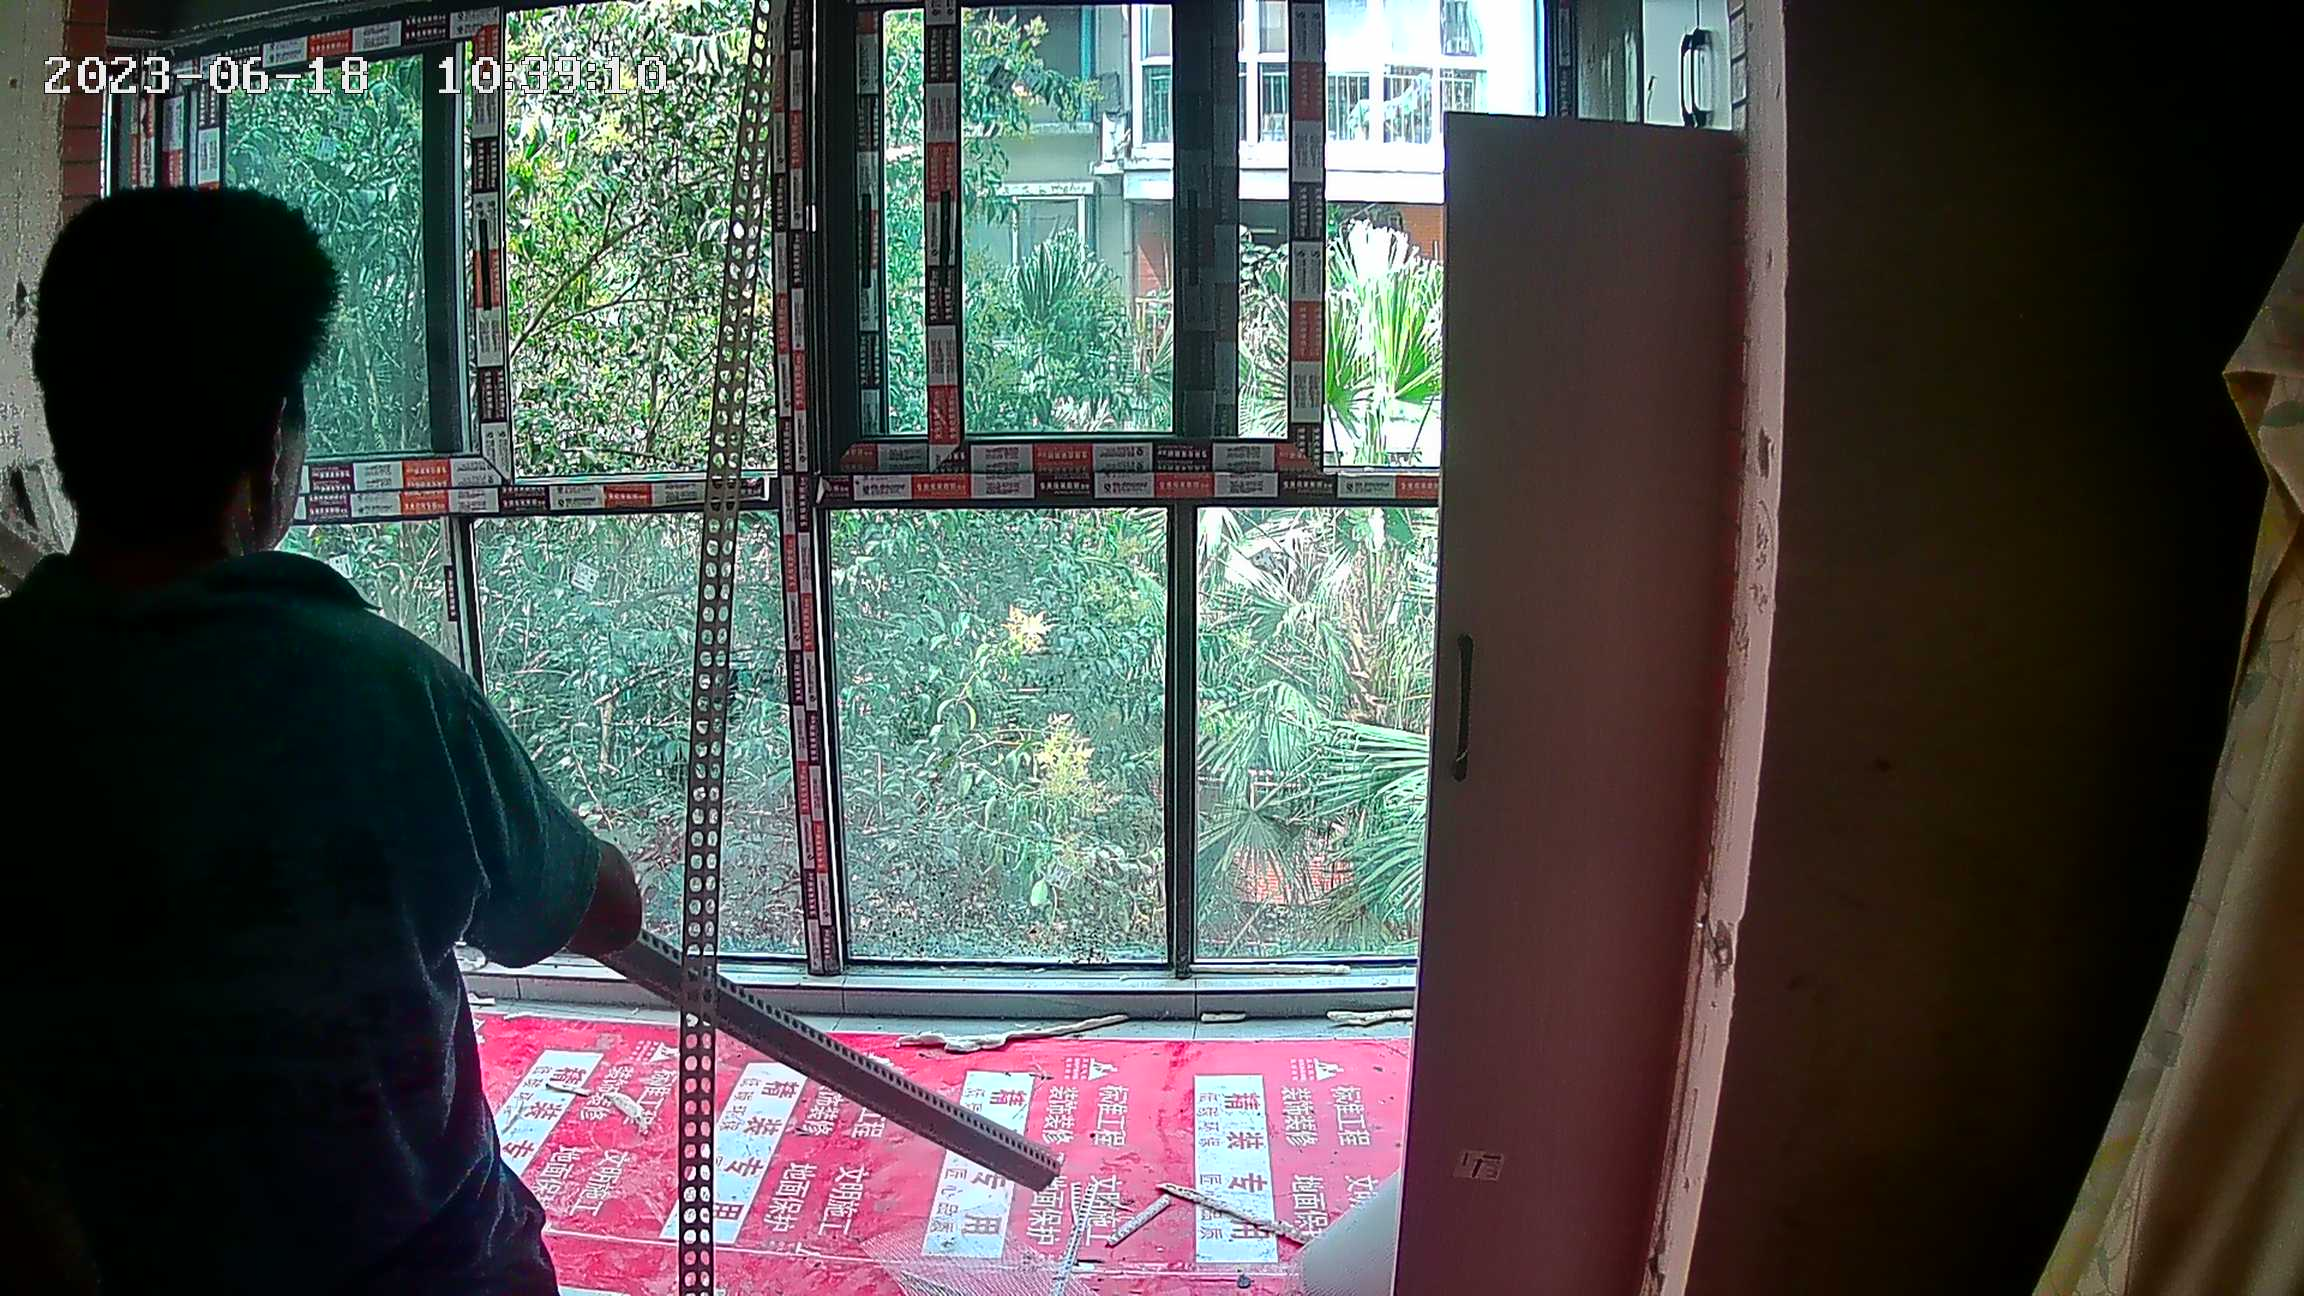people: (1, 195, 604, 1289)
window: (99, 1, 1627, 1003)
